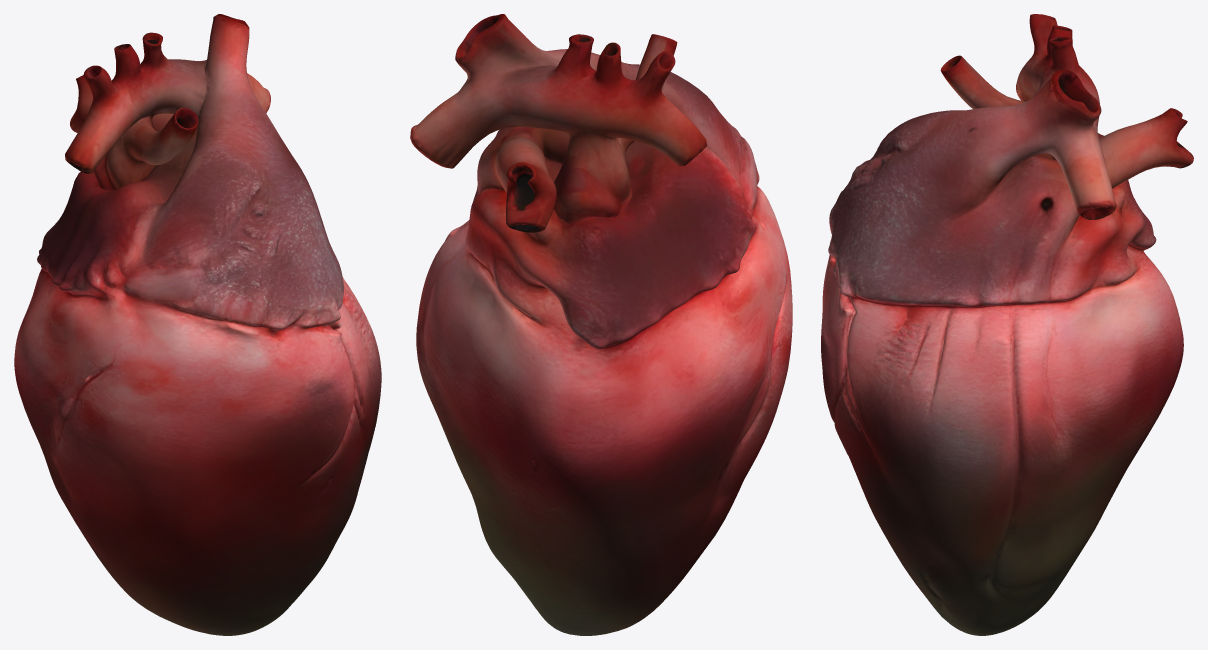
Rendered from modelo.glb.
The picture shows the model from 3 angles, left to right: view 1: azimuth 30°, elevation 25°; view 2: azimuth 150°, elevation 25°; view 3: azimuth 270°, elevation 25°; orthographic projection. The views are drawn at different scales.
Parts seen in each view (by area): view 1: Object_4; view 2: Object_4; view 3: Object_4.
Boxes of the visible parts, <box> form: Object_4: <box>14,14,381,635</box>; Object_4: <box>410,14,792,635</box>; Object_4: <box>821,14,1193,635</box>.
Bounding box in the file's own units: 0.6393 × 1.16 × 0.6811.
Materials: 1 (1 with a texture image).
